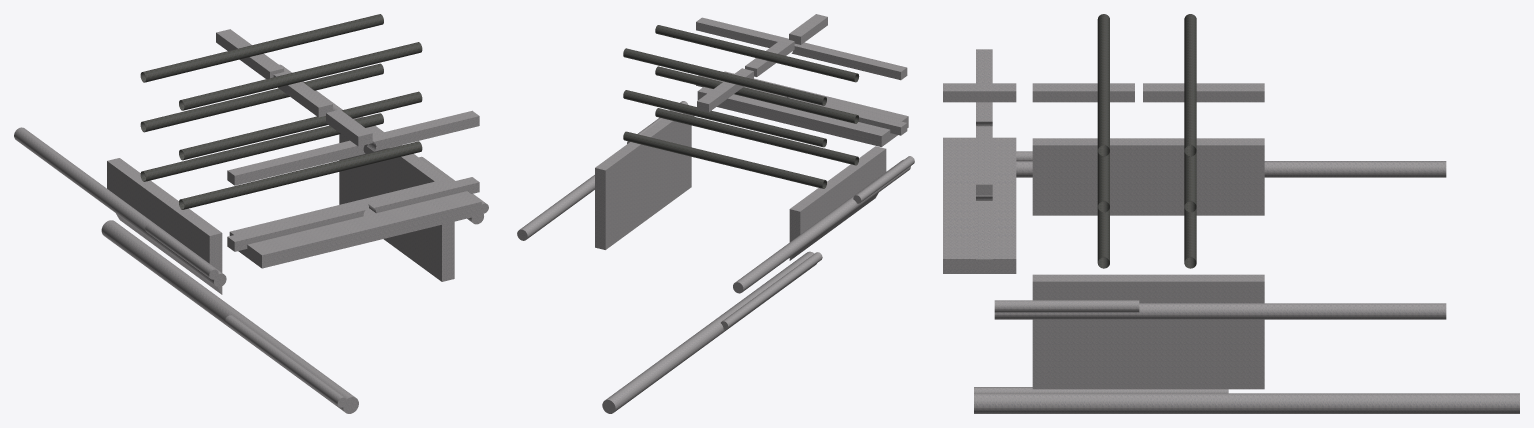
3 renders of one model, left to right at view 1: azimuth 30°, elevation 25°; view 2: azimuth 150°, elevation 25°; view 3: azimuth 270°, elevation 25°, orthographic. The views are drawn at different scales.
Parts seen in each view (by area): view 1: 0_0_2_1_2_3; view 2: 0_0_2_1_2_3; view 3: 0_0_2_1_2_3.
Part boxes in pixels (x1,y1,x2,y2): 0_0_2_1_2_3: (14,14,488,413); 0_0_2_1_2_3: (517,14,914,413); 0_0_2_1_2_3: (943,14,1519,413).
Bounding box in the file's own units: 17.7 × 18.05 × 27.97.
20 materials, 20 textured.
